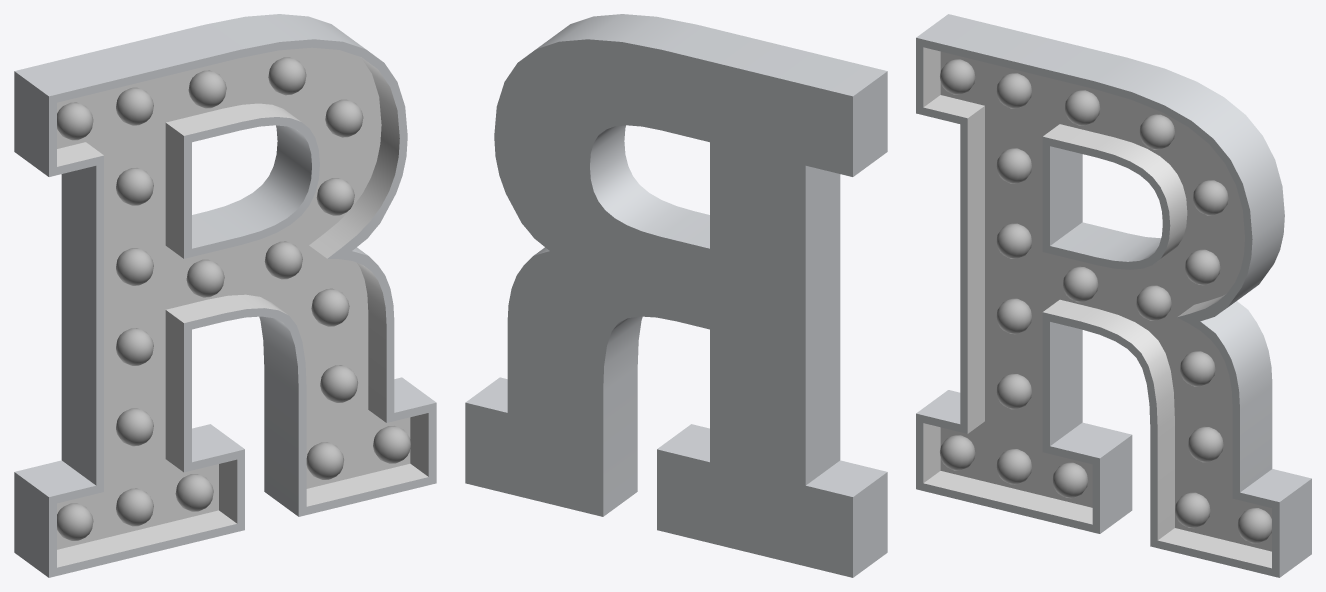
The model's file is LettersBulb01_R.FBX.
3 renders of one model, left to right at view 1: azimuth 30°, elevation 25°; view 2: azimuth 150°, elevation 25°; view 3: azimuth 330°, elevation 25°, orthographic. The views are drawn at different scales.
Visible parts, largest first — view 1: LettersBulb01_R; view 2: LettersBulb01_R; view 3: LettersBulb01_R.
Part boxes in pixels (bbox=[...]): LettersBulb01_R: bbox=[14, 14, 436, 577]; LettersBulb01_R: bbox=[465, 14, 887, 577]; LettersBulb01_R: bbox=[916, 14, 1311, 577].
Size of what is drawn, in the model's own units: 1.01 by 1.2 by 0.1563.
